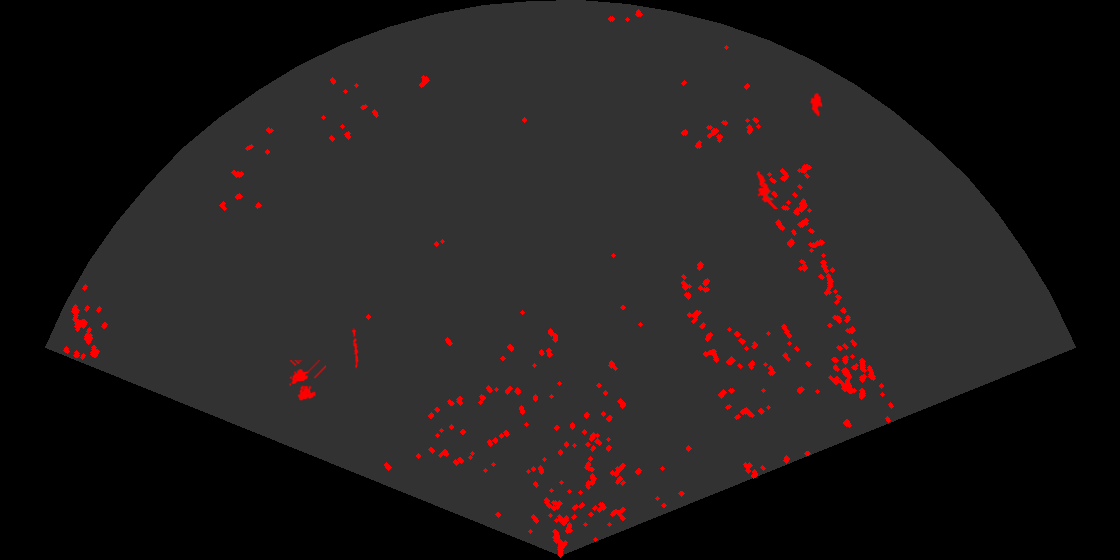AUV: (809, 91, 824, 118)
cage: (288, 360, 326, 402)
chain: (350, 328, 360, 369)
frogman: (755, 169, 780, 209)
